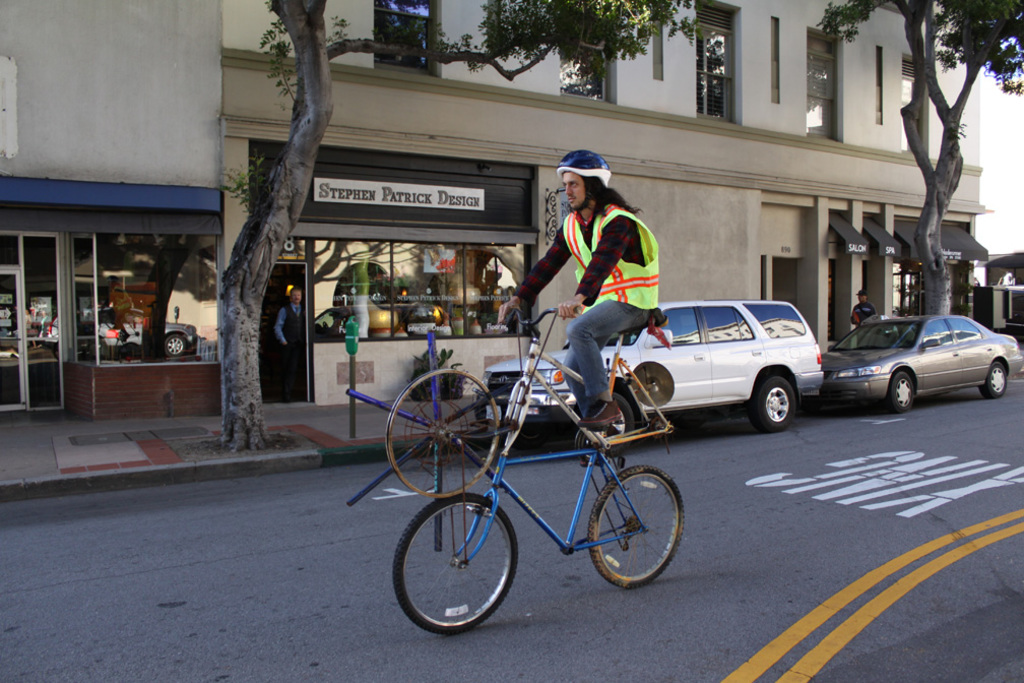Bike: (386, 296, 690, 633)
